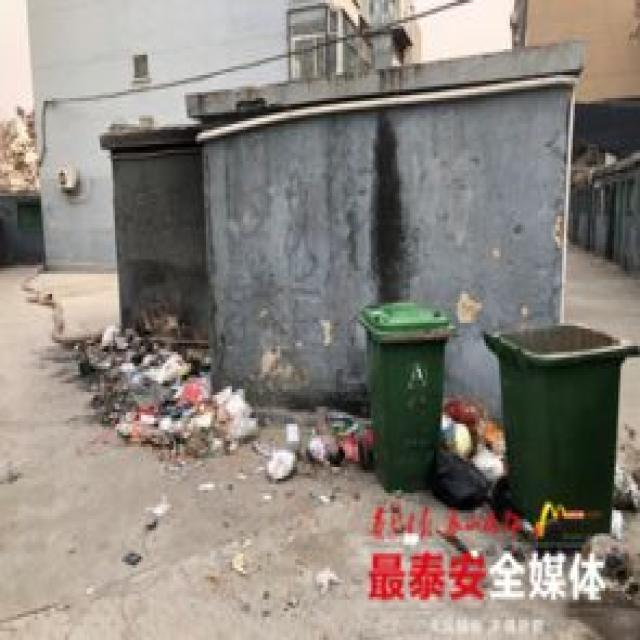garbage: (69, 323, 254, 455), (430, 392, 506, 505), (264, 404, 368, 482)
garbage_bin: (479, 320, 638, 548), (356, 297, 453, 490)
